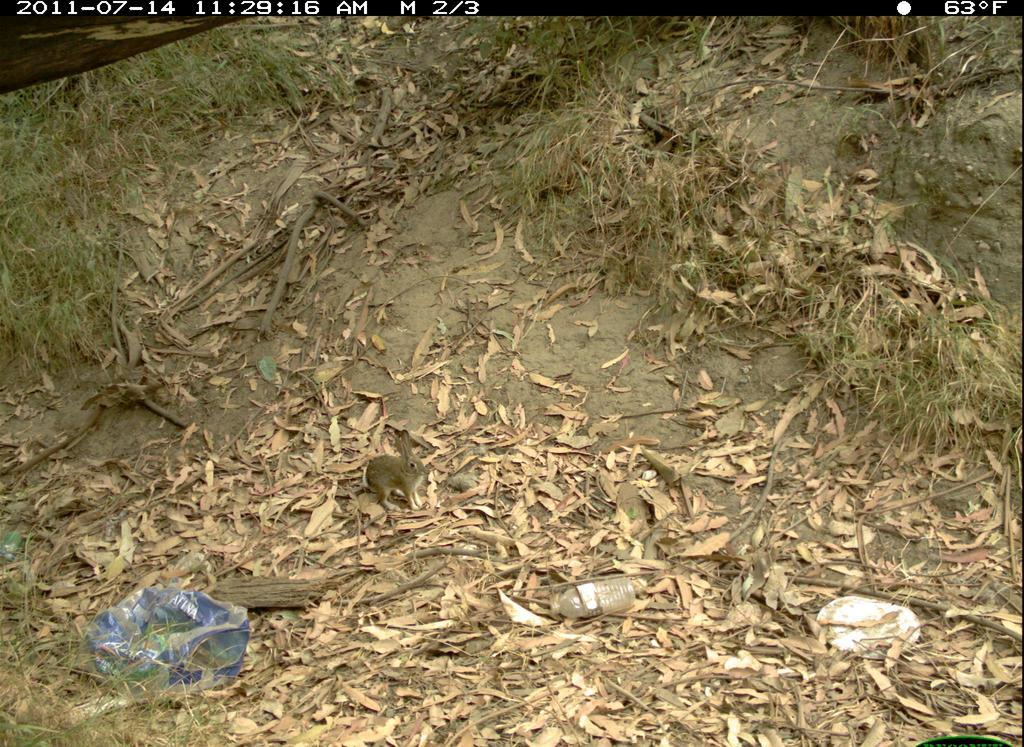rabbit: (354, 423, 446, 521)
